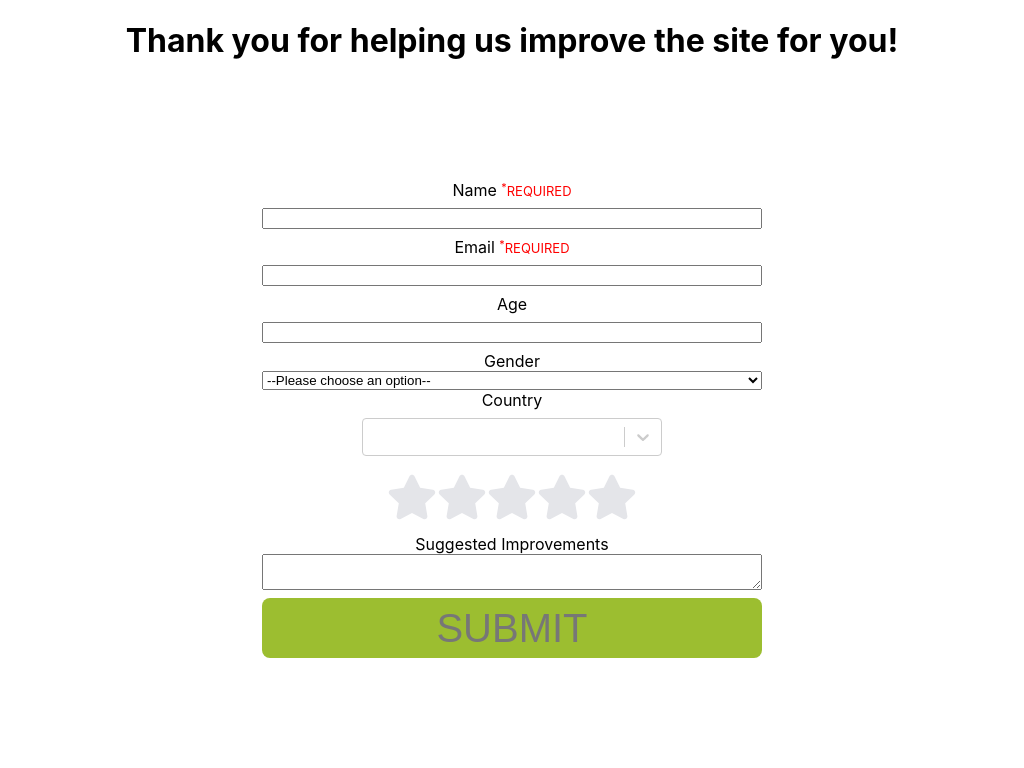
Test: Survey testing › should show error messages if name is not entered
What coordinates should you click on to do the following:
click the button
I would click on:
 (512, 628)
Its box is [262,598,762,658].
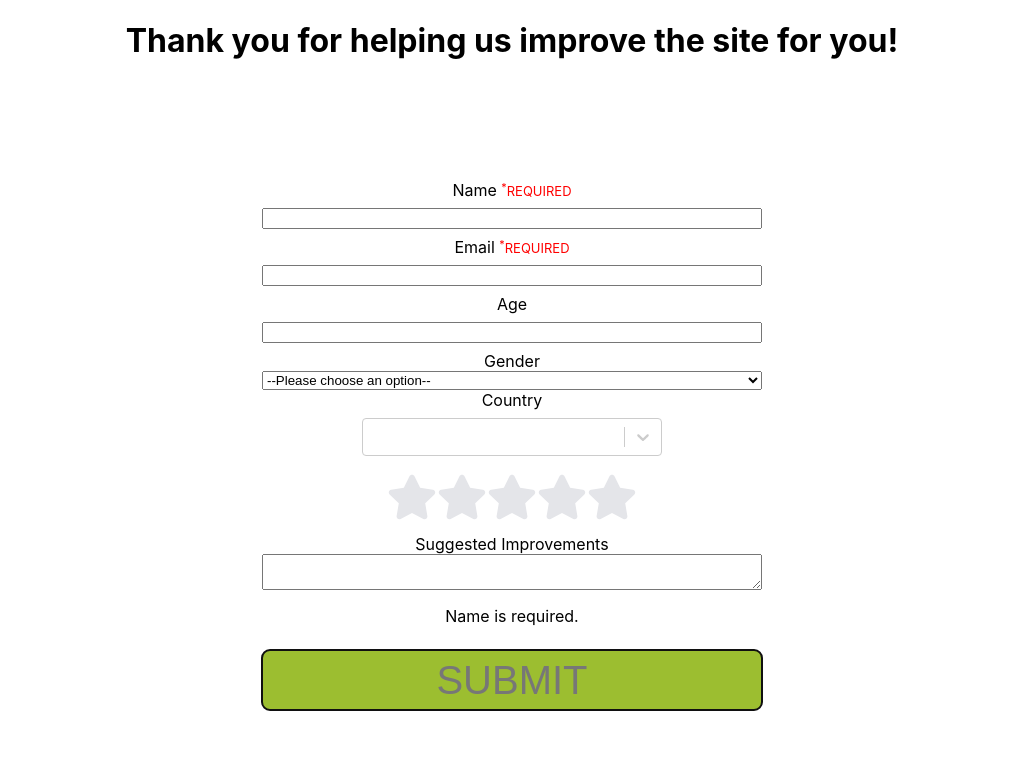
Expected: the text "Name is required." is shown, [445,606,579,626]
